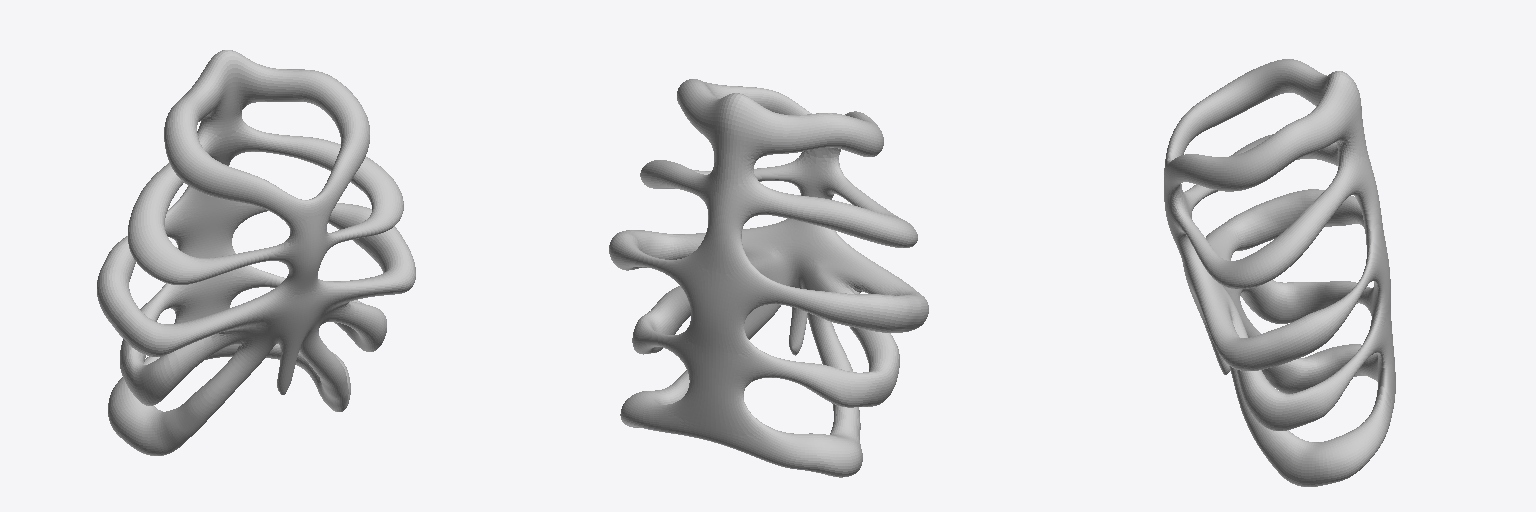
The model's file is Tronco.obj.
3 views of the same model, side by side, from view 1: azimuth 30°, elevation 25°; view 2: azimuth 150°, elevation 25°; view 3: azimuth 270°, elevation 25° (orthographic).
Parts seen in each view (by area): view 1: Group54117; view 2: Group54117; view 3: Group54117.
Boxes of the visible parts, box(x1,y1,x2,y2) form: Group54117: box(97, 50, 415, 455); Group54117: box(609, 79, 928, 477); Group54117: box(1164, 59, 1395, 486).
Bounding box in the file's own units: 1.15 × 1.37 × 0.785.